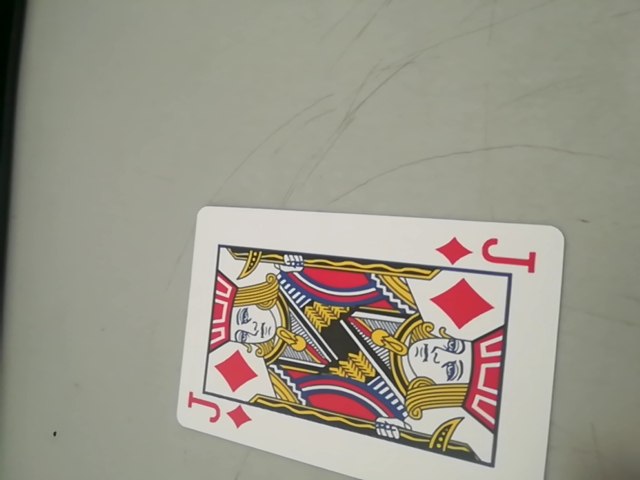fk j: (438, 233, 544, 273), (186, 394, 255, 433)
